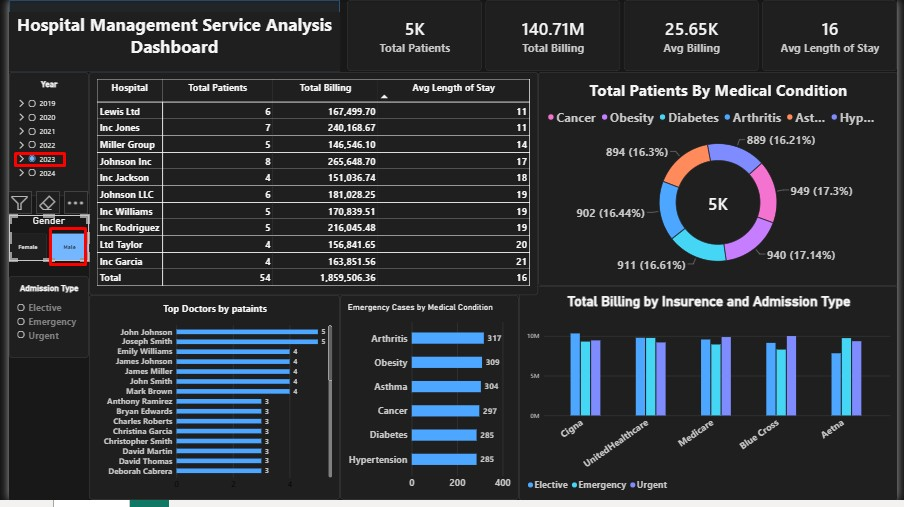

Layout of this report page (visuals, bound fields, positions):
{"tool":"powerbi","page":{"name":"Page 1","canvas":[1920,1080],"ordinal":0},"visuals":[{"type":"cardVisual","fields":{"Data":["healthcare_dataset.Total Patients","healthcare_dataset.Total Billing","healthcare_dataset.Avg Billing","healthcare_dataset.Avg Length of Stay"]},"box":[730.7,0,1189.3,153.7],"z":0},{"type":"donutChart","title":"Total Patients By Medical Condition","fields":{"Category":["healthcare_dataset.Medical Condition"],"Y":["healthcare_dataset.Total Patients"]},"box":[1142.2,155,777.8,462.1],"z":1},{"type":"clusteredColumnChart","title":"Total Billing by Insurence and Admission Type","fields":{"Category":["healthcare_dataset.Insurance Provider"],"Series":["healthcare_dataset.Admission Type"],"Y":["healthcare_dataset.Total Billing"]},"box":[1101.1,617.3,818.9,463.6],"z":2},{"type":"pivotTable","fields":{"Rows":["healthcare_dataset.Hospital"],"Values":["healthcare_dataset.Total Patients","healthcare_dataset.Total Billing","healthcare_dataset.Avg Length of Stay"]},"box":[172.2,155,970,482.2],"z":3},{"type":"listSlicer","fields":{"Values":["healthcare_dataset.Date of Admission.Variation.Date Hierarchy.Year","healthcare_dataset.Date of Admission.Variation.Date Hierarchy.Month"]},"box":[0,155,172,268.4],"z":4},{"type":"advancedSlicerVisual","fields":{"Values":["healthcare_dataset.Gender"]},"box":[0,464.9,172,98.6],"z":5},{"type":"listSlicer","fields":{"Values":["healthcare_dataset.Admission Type"]},"box":[0,597,172,176.6],"z":6},{"type":"clusteredBarChart","title":"Top Doctors by pataints","fields":{"Category":["healthcare_dataset.Doctor"],"Y":["healthcare_dataset.Total Patients"]},"box":[172.2,637.1,542.4,442],"z":7},{"type":"shape","box":[0,0,714.6,155],"z":8},{"type":"textbox","box":[0,25.8,714.6,129.1],"z":9},{"type":"clusteredBarChart","title":"Emergency Cases by Medical Condition","fields":{"Category":["healthcare_dataset.Medical Condition"],"Y":["healthcare_dataset.Emergency Cases"]},"box":[714.6,637.1,386.5,442],"z":10}]}

Visuals, with their boxes in screenshot pixels (x1, y1, x2, y2), scaled from the page's 1920x1080 canvas onto the 904x507 screenshot:
cardVisual - healthcare_dataset.Total Patients x healthcare_dataset.Total Billing: left=344, top=0, right=903, bottom=72
"Total Patients By Medical Condition" donutChart: left=538, top=73, right=903, bottom=290
"Total Billing by Insurence and Admission Type" clusteredColumnChart: left=518, top=290, right=903, bottom=506
pivotTable - healthcare_dataset.Hospital x healthcare_dataset.Total Patients: left=81, top=73, right=538, bottom=299
listSlicer - healthcare_dataset.Date of Admission.Variation.Date Hierarchy.Year x healthcare_dataset.Date of Admission.Variation.Date Hierarchy.Month: left=0, top=73, right=81, bottom=199
advancedSlicerVisual - healthcare_dataset.Gender: left=0, top=218, right=81, bottom=265
listSlicer - healthcare_dataset.Admission Type: left=0, top=280, right=81, bottom=363
"Top Doctors by pataints" clusteredBarChart: left=81, top=299, right=336, bottom=506
shape: left=0, top=0, right=336, bottom=73
textbox: left=0, top=12, right=336, bottom=73
"Emergency Cases by Medical Condition" clusteredBarChart: left=336, top=299, right=518, bottom=506
